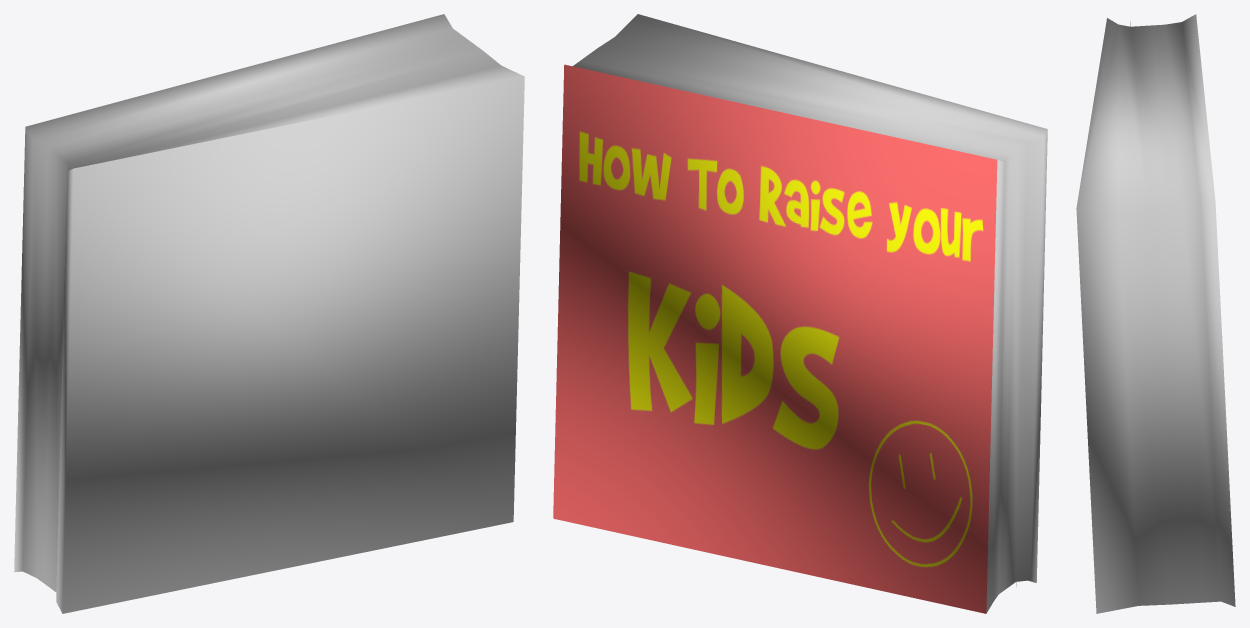
The model's file is bestofparents.fbx.
The picture shows the model from 3 angles, left to right: view 1: azimuth 30°, elevation 25°; view 2: azimuth 150°, elevation 25°; view 3: azimuth 270°, elevation 25°; orthographic projection. The views are drawn at different scales.
Visible parts, largest first — view 1: Cube_001; view 2: Cube_001; view 3: Cube_001.
Boxes of the visible parts, left/top/right/bottom form: Cube_001: left=14, top=14, right=524, bottom=613; Cube_001: left=553, top=14, right=1047, bottom=613; Cube_001: left=1076, top=14, right=1235, bottom=613.
Bounding box in the file's own units: 2 × 2.03 × 0.7104.
2 materials, 1 textured.
